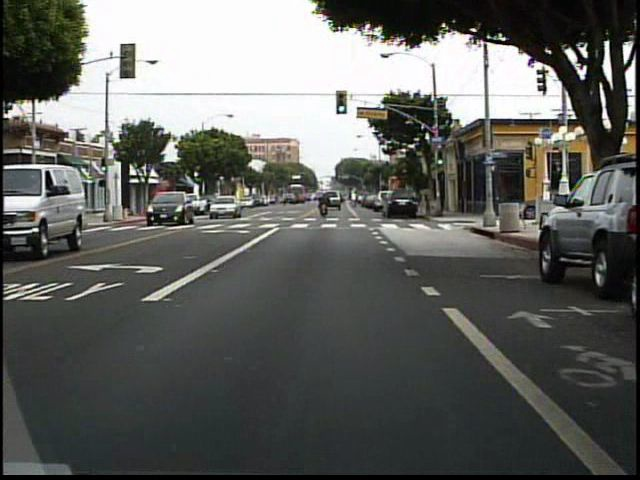person: (61, 192, 83, 221), (318, 190, 331, 219), (72, 191, 84, 222)
